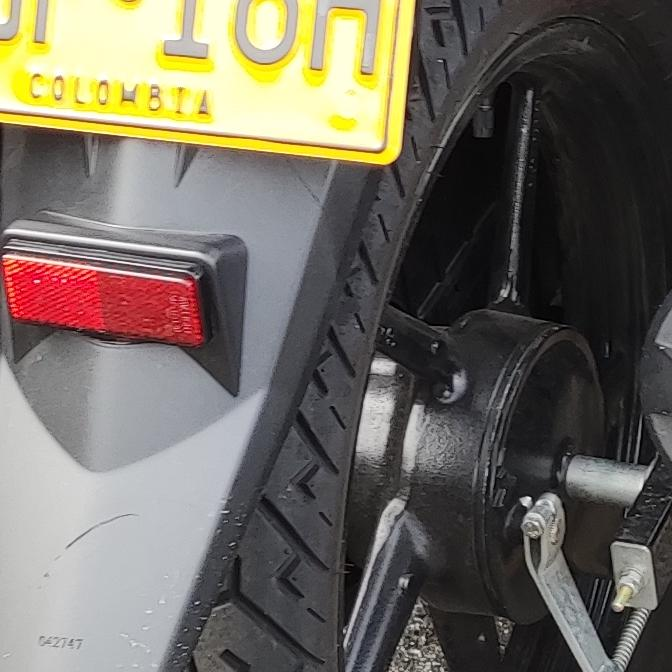plates: (0, 0, 404, 161)
